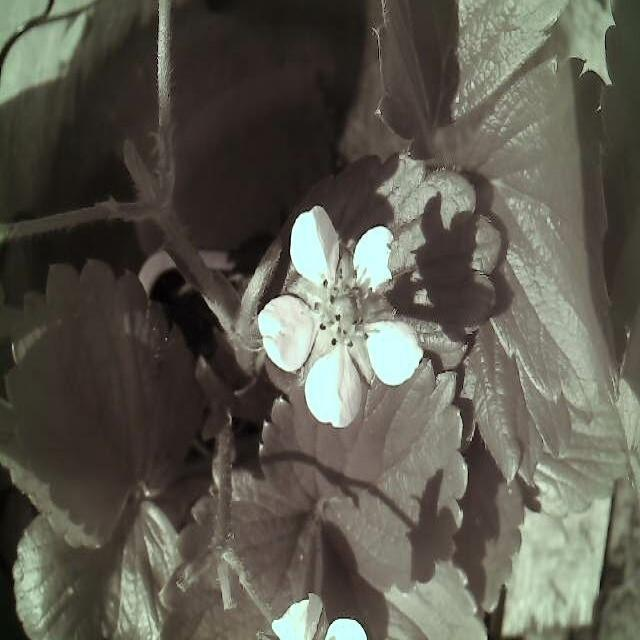flower: (258, 207, 430, 429)
